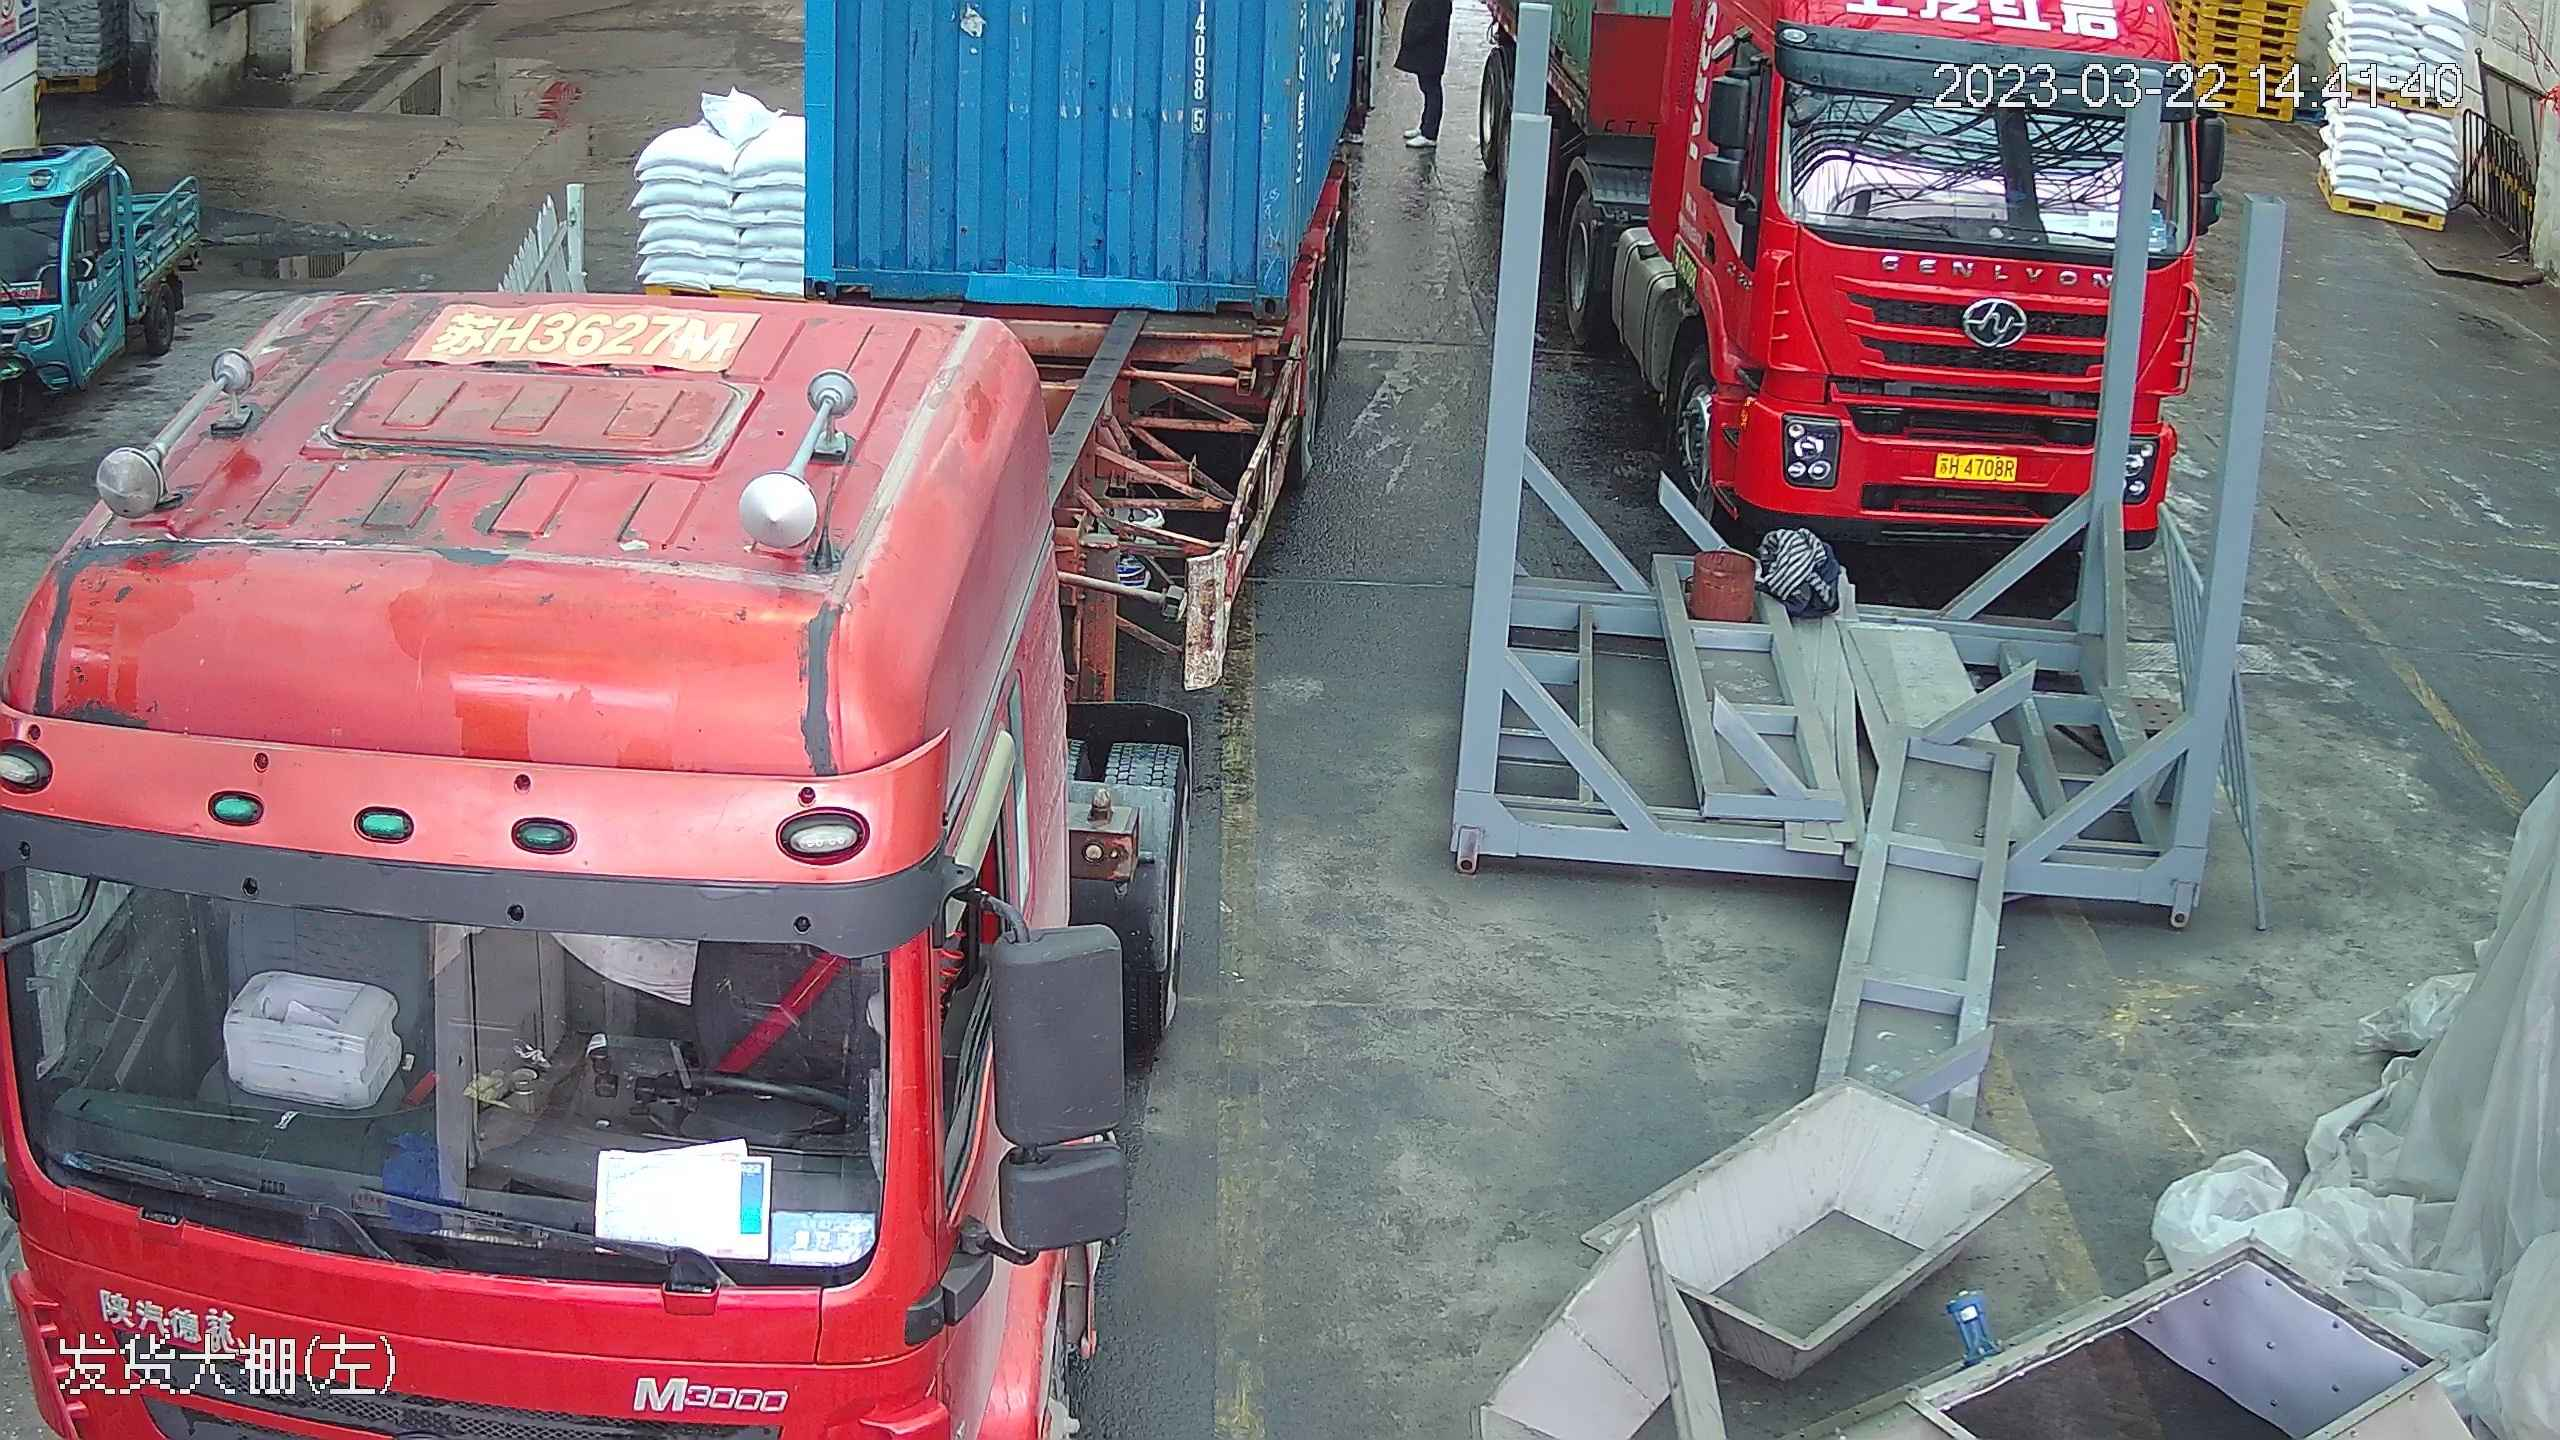people: (1395, 1, 1456, 154)
truck: (1, 1, 1359, 1440), (1521, 1, 2218, 568)
